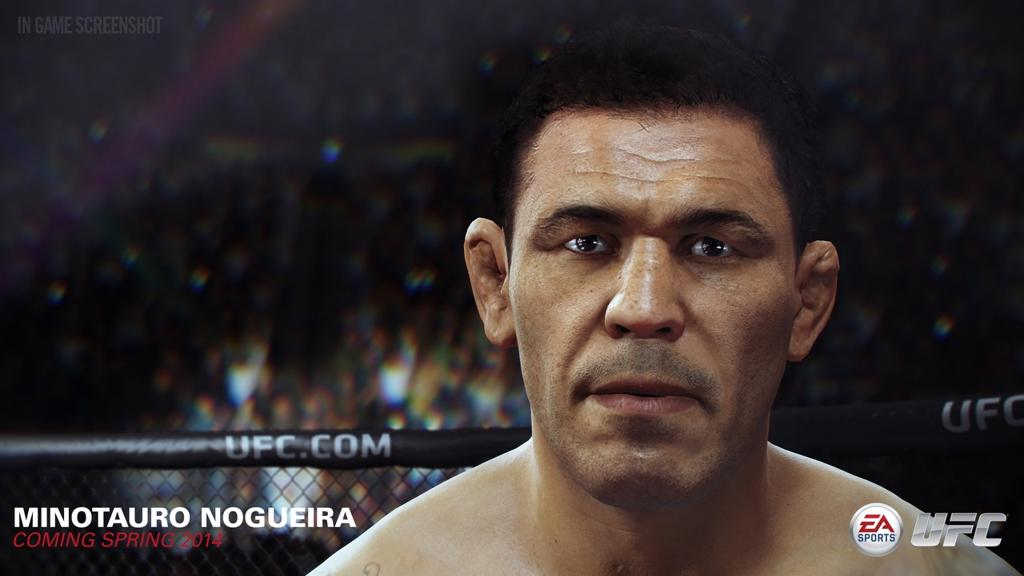face: (512, 104, 802, 500)
